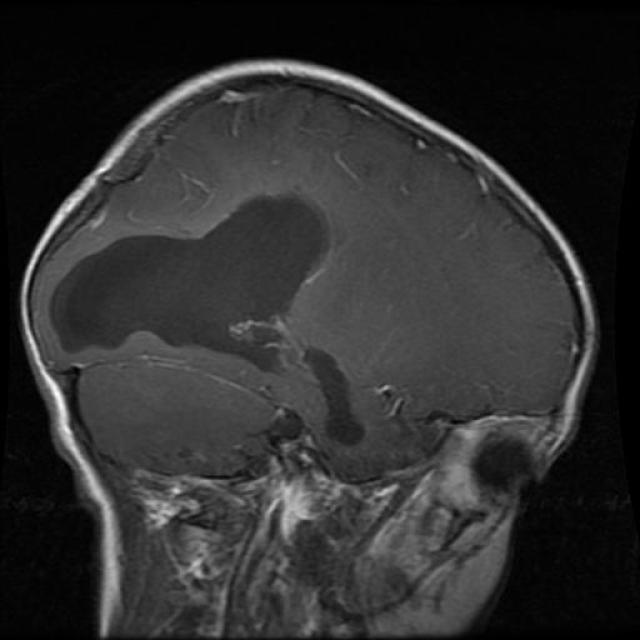glioma: (51, 190, 332, 368)
